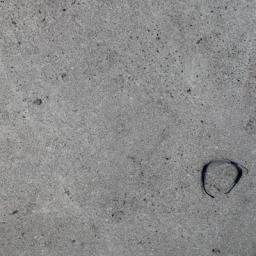FOD: (199, 155, 250, 200)
